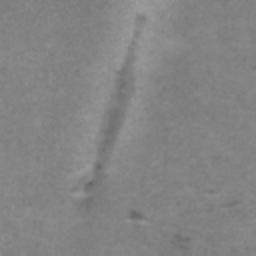Finishing roll printing: (71, 14, 146, 199), (127, 210, 148, 225), (173, 234, 190, 249), (222, 200, 240, 208)
